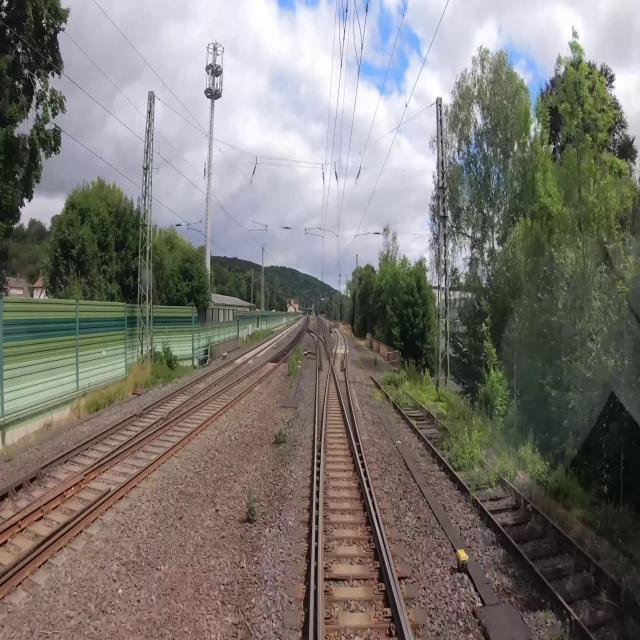Plant: (434, 408, 520, 504), (382, 370, 426, 409), (246, 489, 261, 522), (288, 347, 300, 388), (274, 425, 286, 444), (372, 388, 385, 401), (459, 473, 464, 479)
